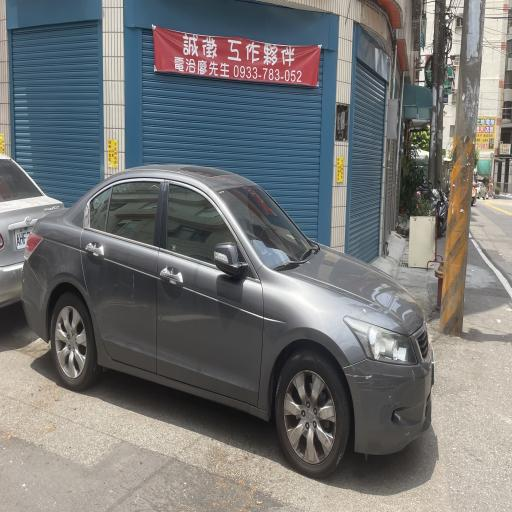car: (20, 162, 438, 480)
